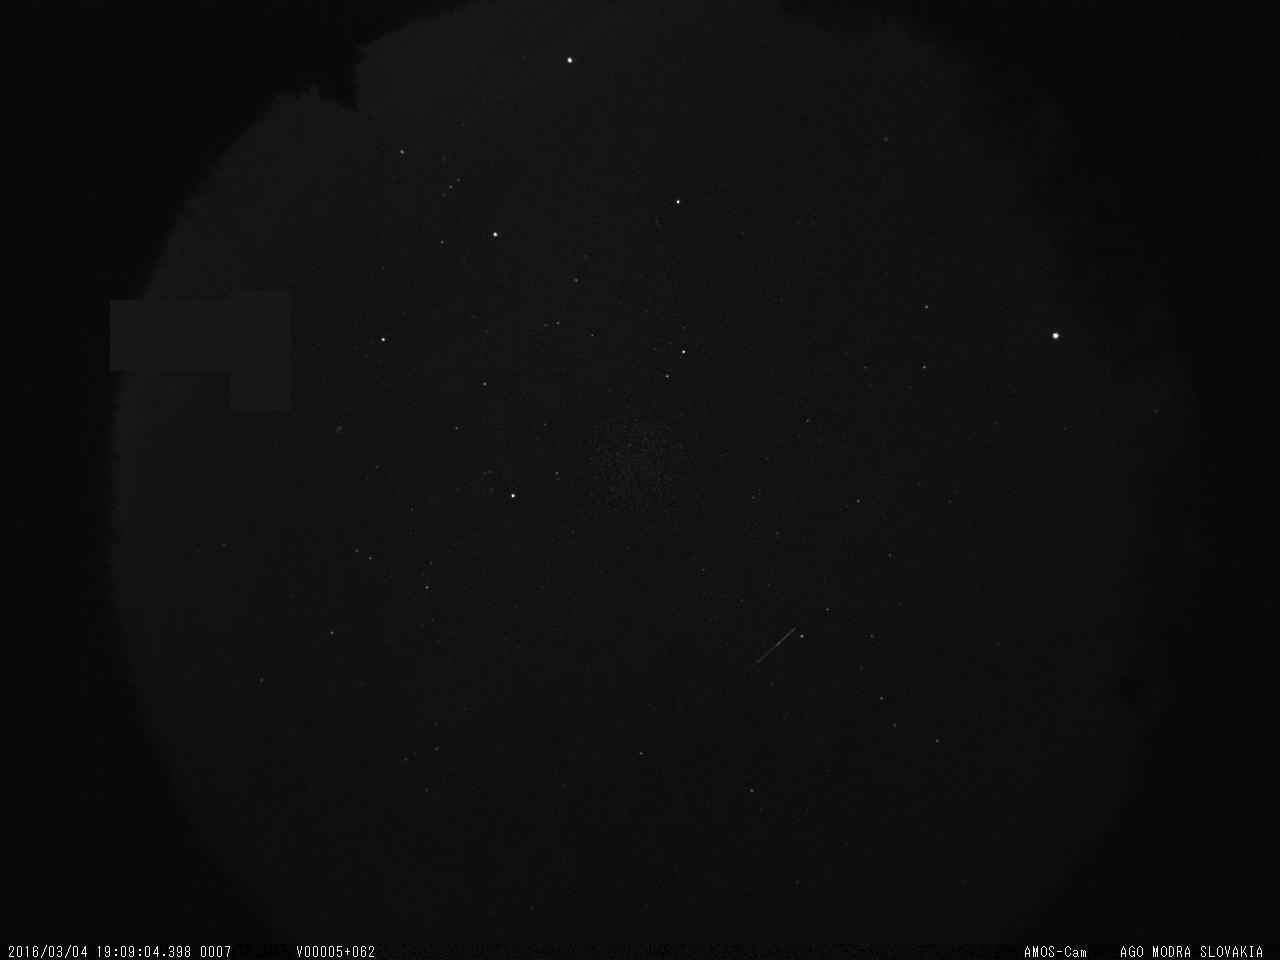meteor: (740, 614, 804, 676)
